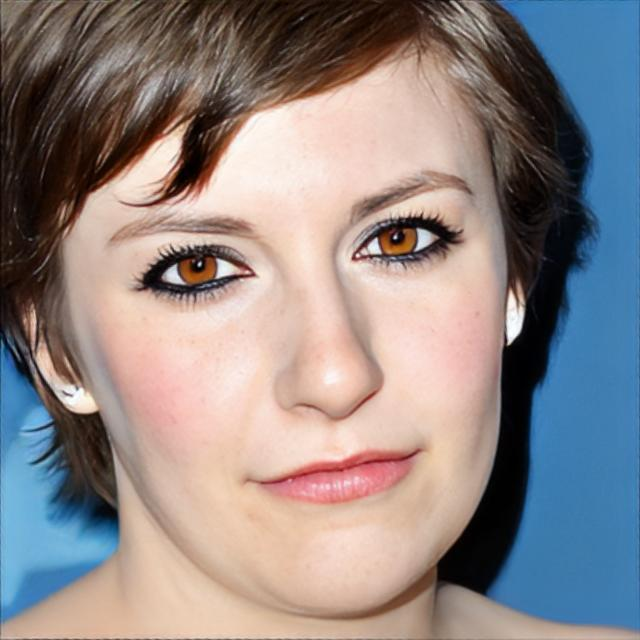content: (59, 20, 508, 618)
